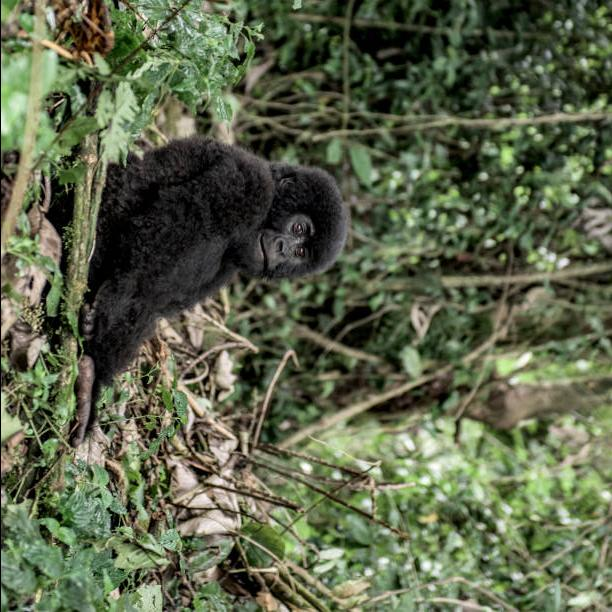goriile_montagne: (60, 125, 378, 420)
